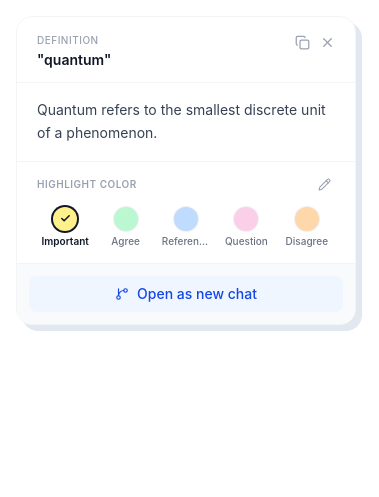
Test: FloatingPopup › Labels umbenennen (Slice 05, mockup-popup-edit-labels.html edit state) › Stift-Icon wechselt in den Edit-Modus mit fünf Eingabefeldern
Expected: the text "Important" is shown, [41,234,89,247]
What coordinates should you click on to do the following:
click the button named "rename labels"
I would click on:
 (324, 184)
Its box is [314,174,335,194].
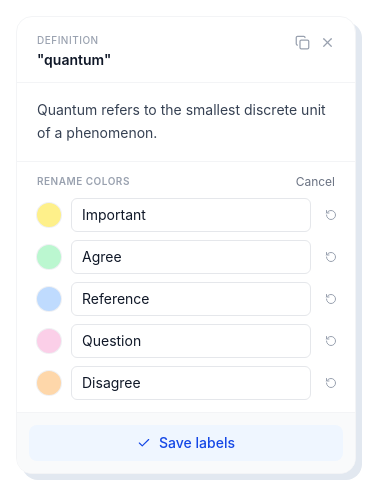
Expected: the text "Rename colors" is shown, [37,174,130,189]
Expected: the number of fields is 5, [71,198,311,232]; [71,240,311,274]; [71,282,311,316]; [71,324,311,358]; [71,366,311,400]
Expected: the button "Save labels" is shown, [29,424,343,460]
